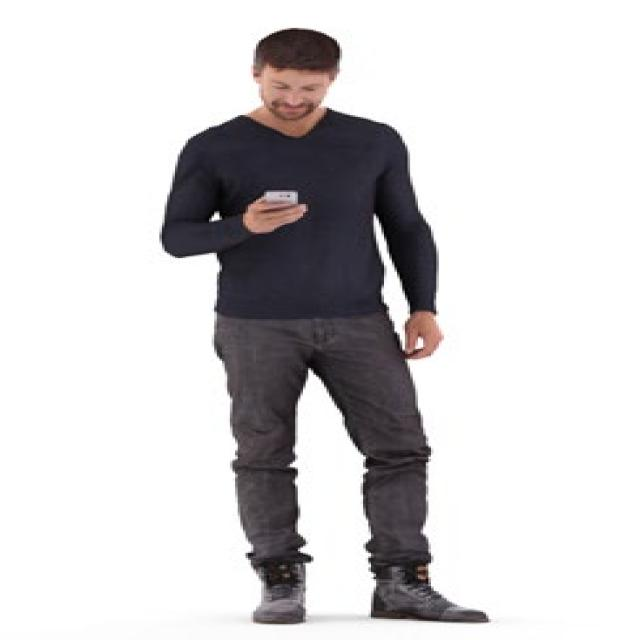standing: (156, 26, 513, 623)
